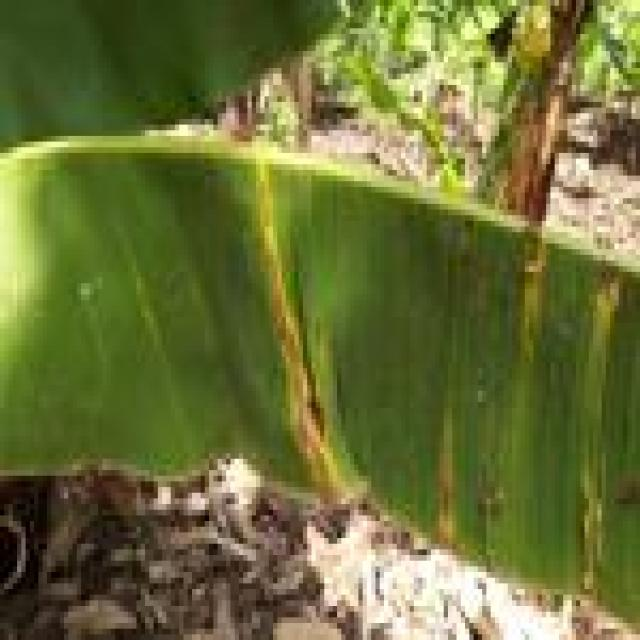Early_rust: (160, 123, 640, 594)
